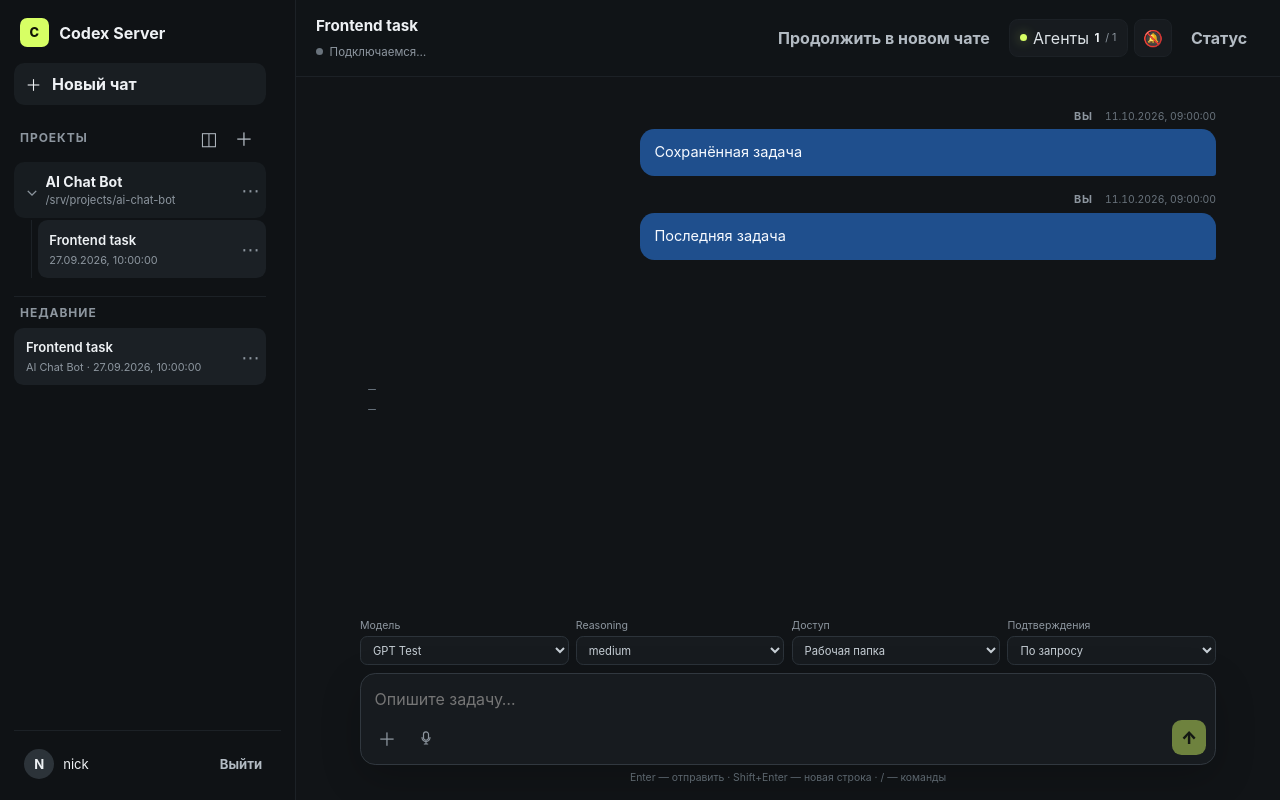
it: App › enables and disables only the selected chat push mapping
Click the button named "Включить уведомления для этого чата".
click(1153, 38)  # box [1134,19,1172,57]
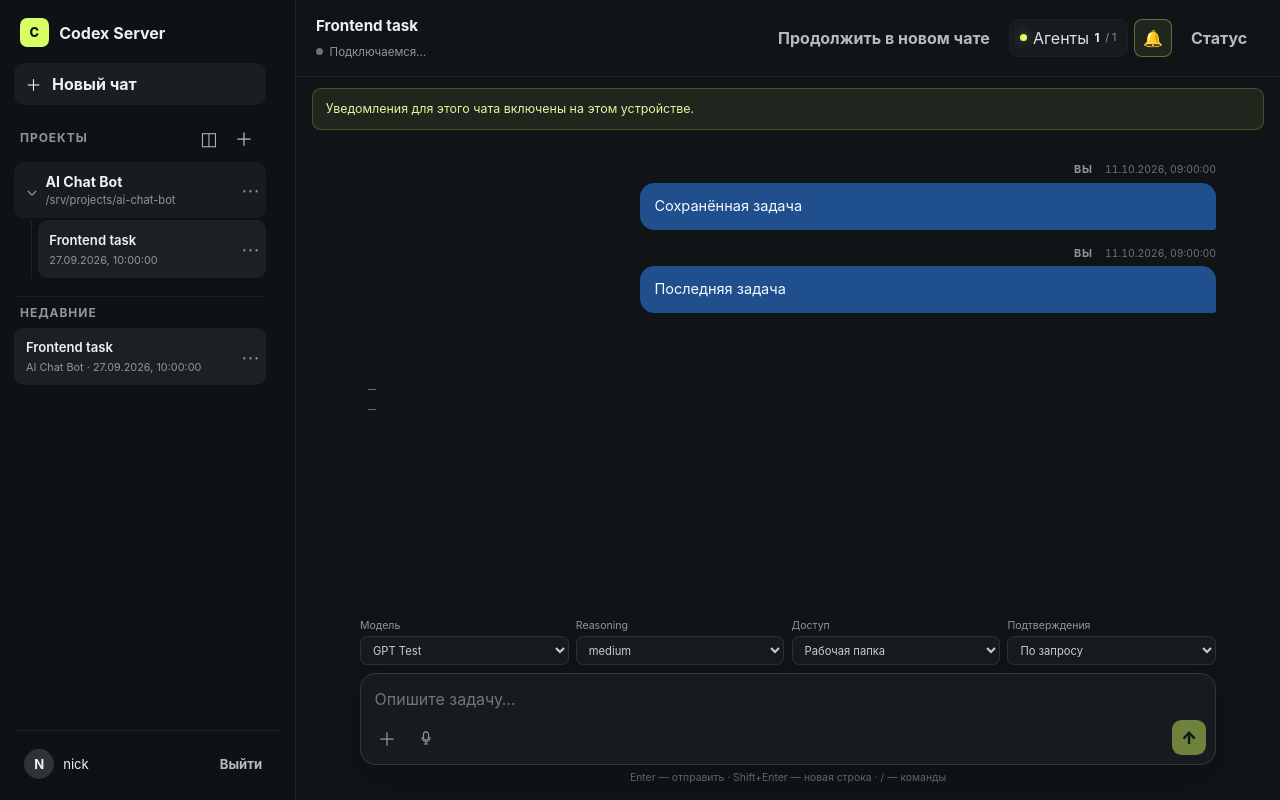
Check: the button named "Отключить уведомления для этого чата" is shown
Click the button named "Отключить уведомления для этого чата".
click(1153, 38)  # box [1134,19,1172,57]
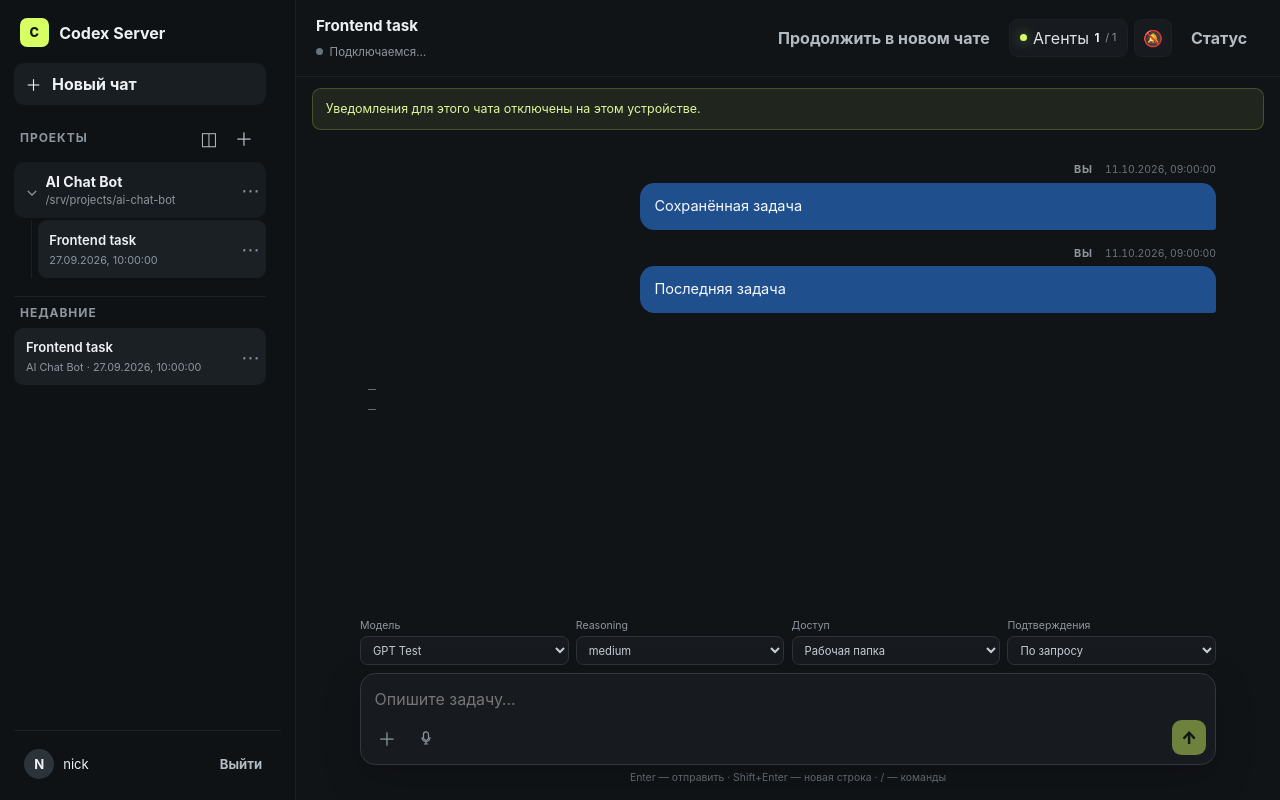
Check: the button named "Включить уведомления для этого чата" is shown, box [1134,19,1172,57]
